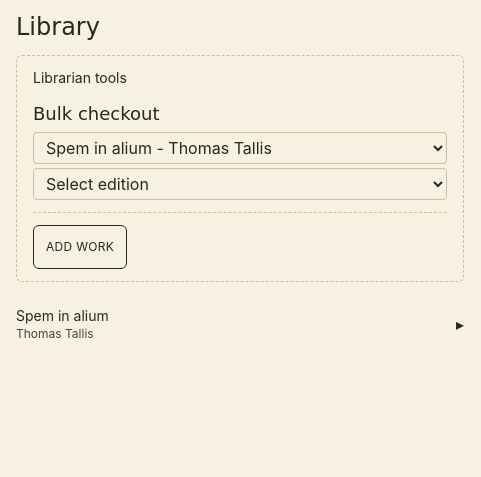
Test case: #198 — a missing precondition fails LOUDLY, never silently › a librarian whose token vanished gets the 401 handling: the error, the form open, the seam refused
Click the button with test id "create-work-button". click: (80, 247)
box: [33,225,127,269]
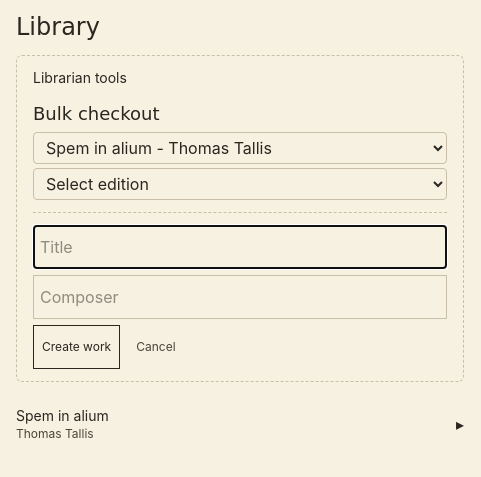
Result: the element with test id "create-work-form" is shown at [33,225,447,369]
Type "Ave Maria" into the field with test id "create-work-name". click: (240, 247)
box: [33,225,447,269]
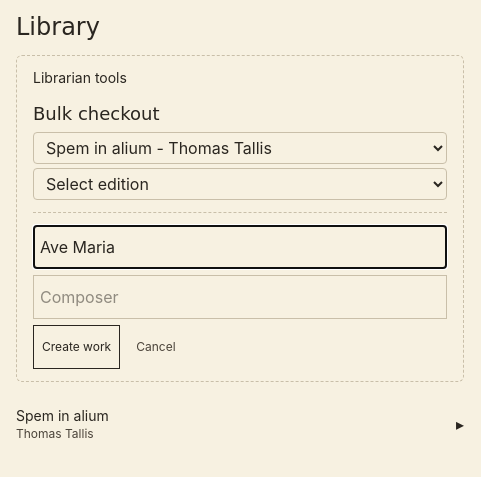
Click the button with test id "create-work-submit". click: (77, 347)
box: [33,325,120,369]
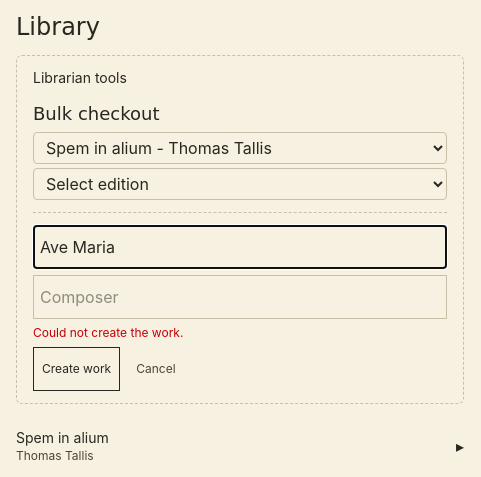
Result: the element with test id "create-work-form" is shown at [33,225,447,391]
Result: the message with test id "create-work-error" reads "Could not create the work." at [33,325,183,340]
